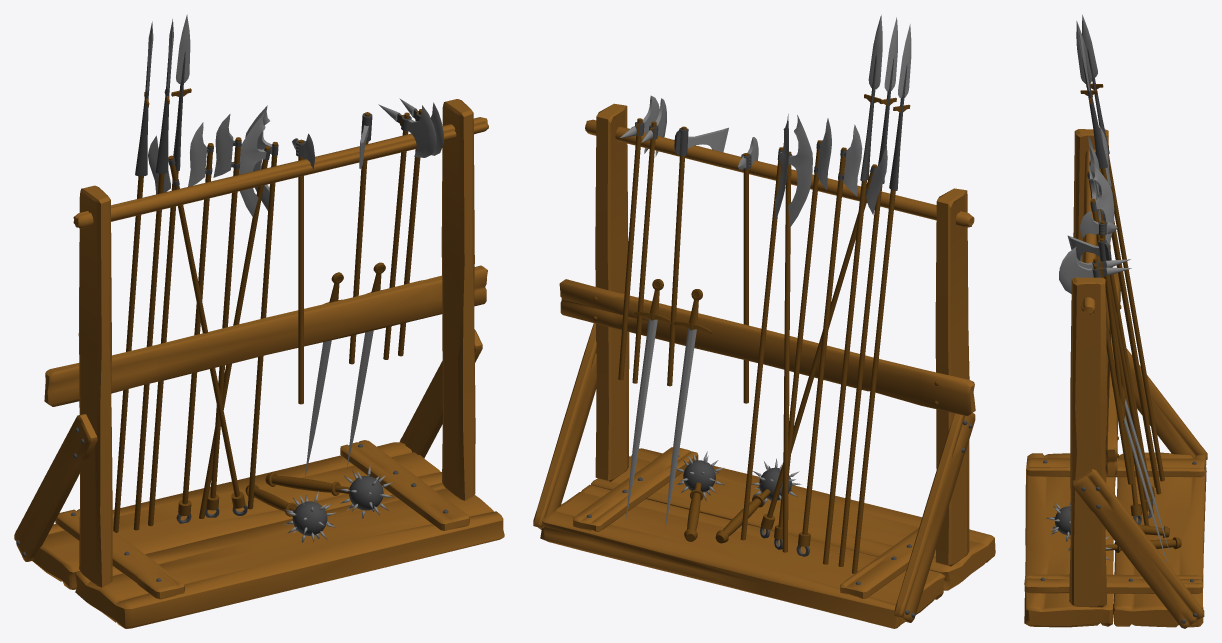
Rendered from weapon.fbx.
3 views of the same model, side by side, from view 1: azimuth 30°, elevation 25°; view 2: azimuth 150°, elevation 25°; view 3: azimuth 270°, elevation 25° (orthographic). The views are drawn at different scales.
Visible parts, largest first — view 1: Lavka.001; view 2: Lavka.001; view 3: Lavka.001.
Boxes of the visible parts, <box> form: Lavka.001: <box>14,14,504,628</box>; Lavka.001: <box>533,15,995,628</box>; Lavka.001: <box>1024,14,1207,628</box>.
Bounding box in the file's own units: 198 × 248 × 85.37.
